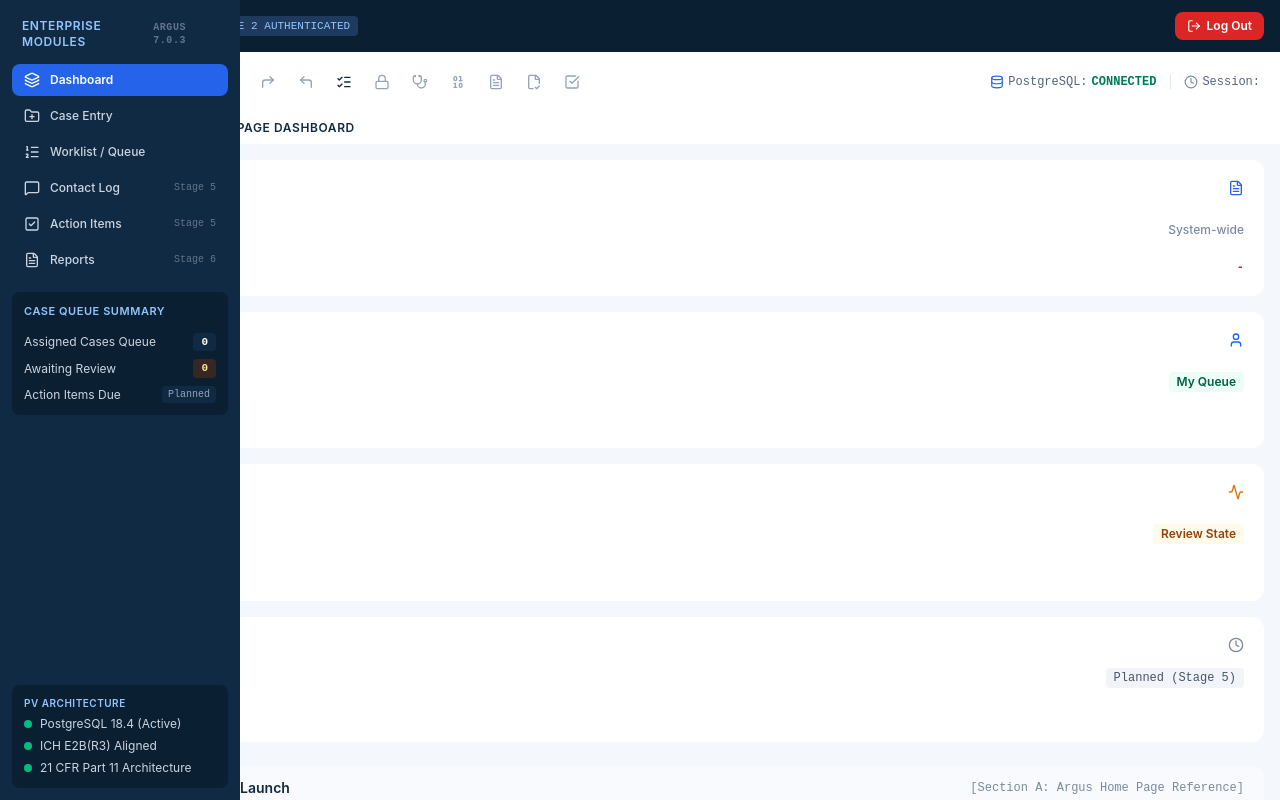
PharmaSafe Stage 4 Enterprise Dashboard & Case Management › renders paginated Worklist view with filtering and sorting controls
The image size is (1280, 800).
Click the button named "Worklist". click: [344, 82]
box: [328,66,360,98]
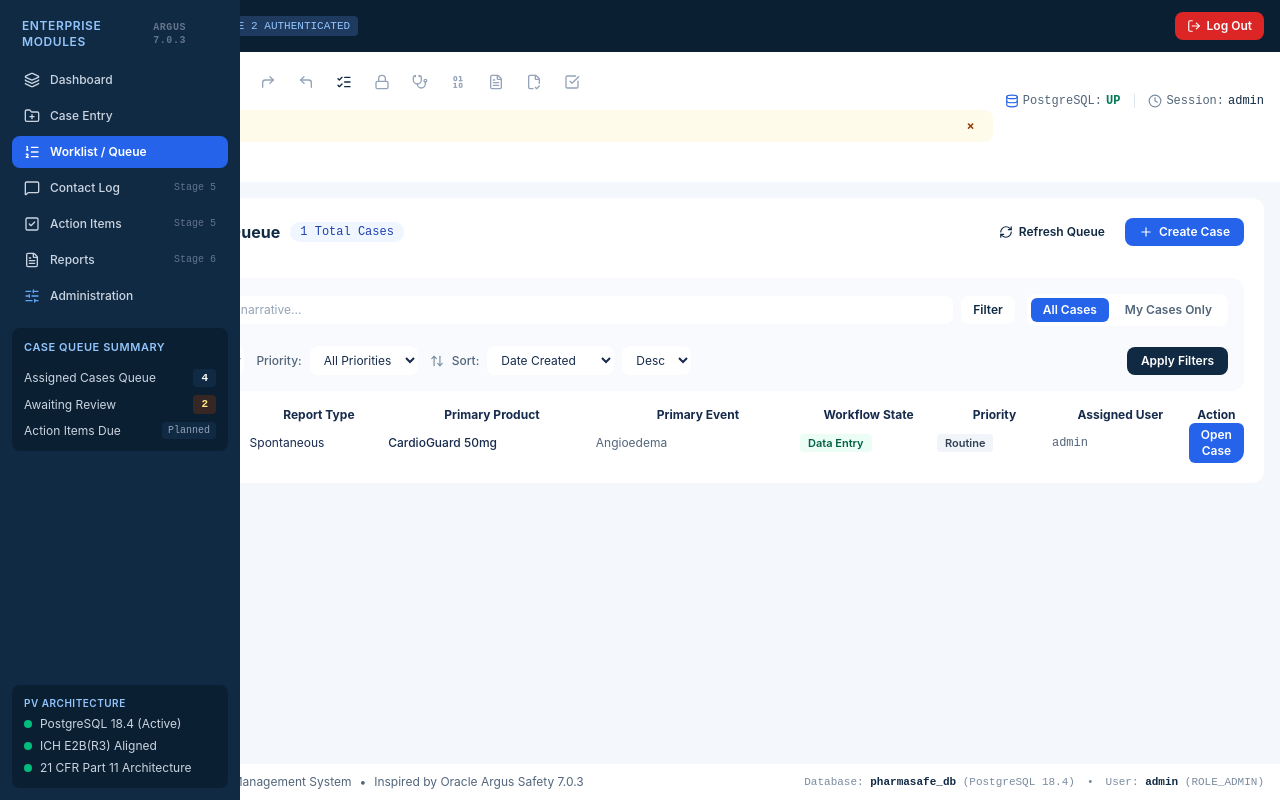
Result: the heading "Worklist / User Case Queue" is shown at [66,220,280,244]
Result: the column heading "Primary Product" is shown at [388,407,596,423]
Result: the column heading "Primary Event" is shown at [596,407,800,423]
